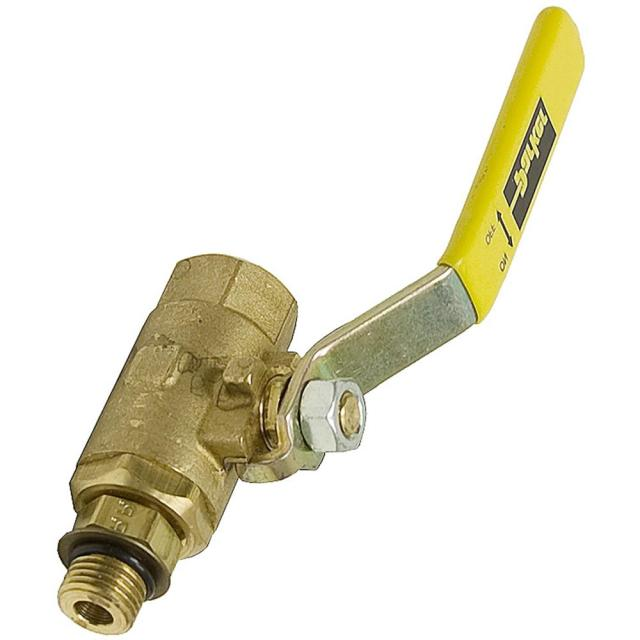opened_valve: (49, 5, 588, 634)
